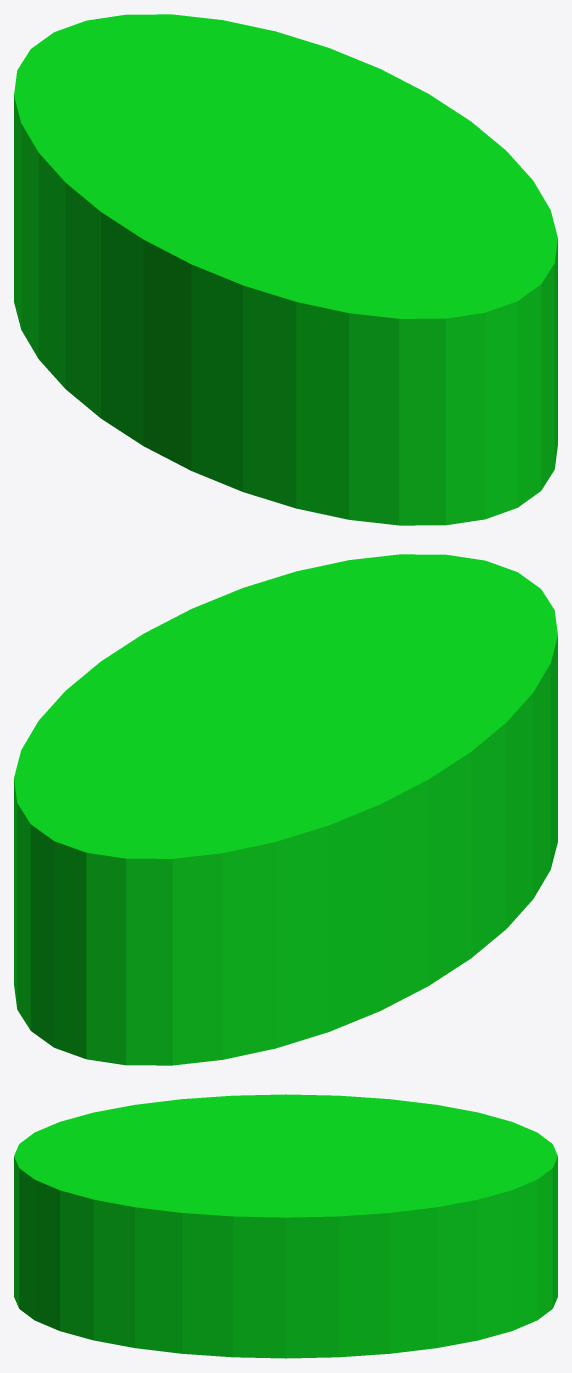
Rendered from insulin_pump_3.glb.
3 views of the same model, one above another, from view 1: azimuth 30°, elevation 25°; view 2: azimuth 150°, elevation 25°; view 3: azimuth 270°, elevation 25° (orthographic). The views are drawn at different scales.
Parts seen in each view (by area): view 1: Cylinder; view 2: Cylinder; view 3: Cylinder.
Part boxes in pixels (box(x1,y1,x2,y2)): Cylinder: box(14, 14, 557, 525); Cylinder: box(14, 554, 557, 1065); Cylinder: box(14, 1094, 557, 1358).
Bounding box in the file's own units: 0.0375 × 0.02 × 0.07.
